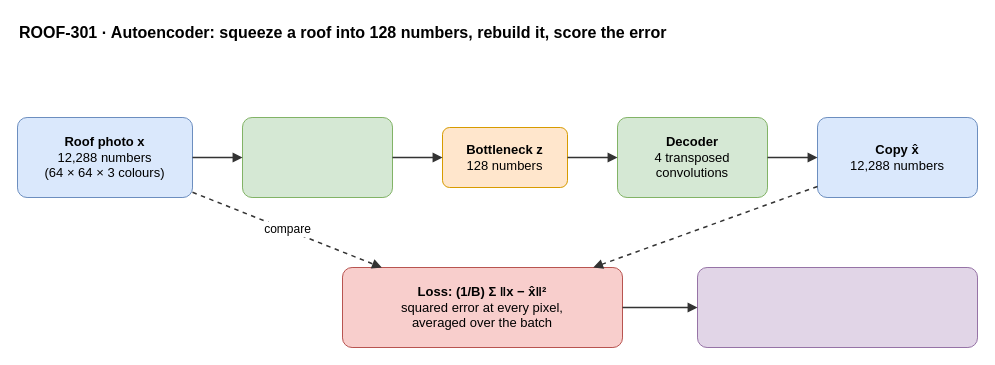
The diagram is 995 pixels wide and 365 high, and some of its shapes have lost their labels. The shapes that lost their labels are listed below. From the top down, each one's box as (x1, y1, x2, y2) in pixels, then its label:
(242, 116, 392, 198): Encoder 4 convolution layers
(696, 266, 978, 348): Unusual score the same error, one per roof → the inspection queue
